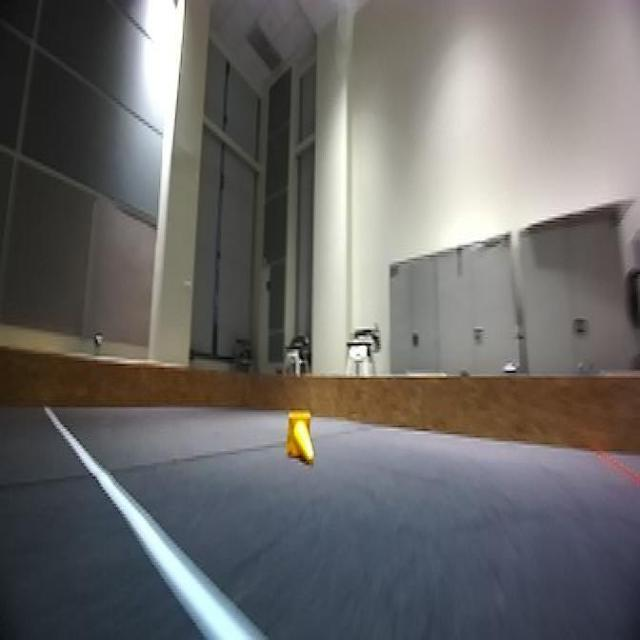frc_cone: (285, 412, 315, 463)
